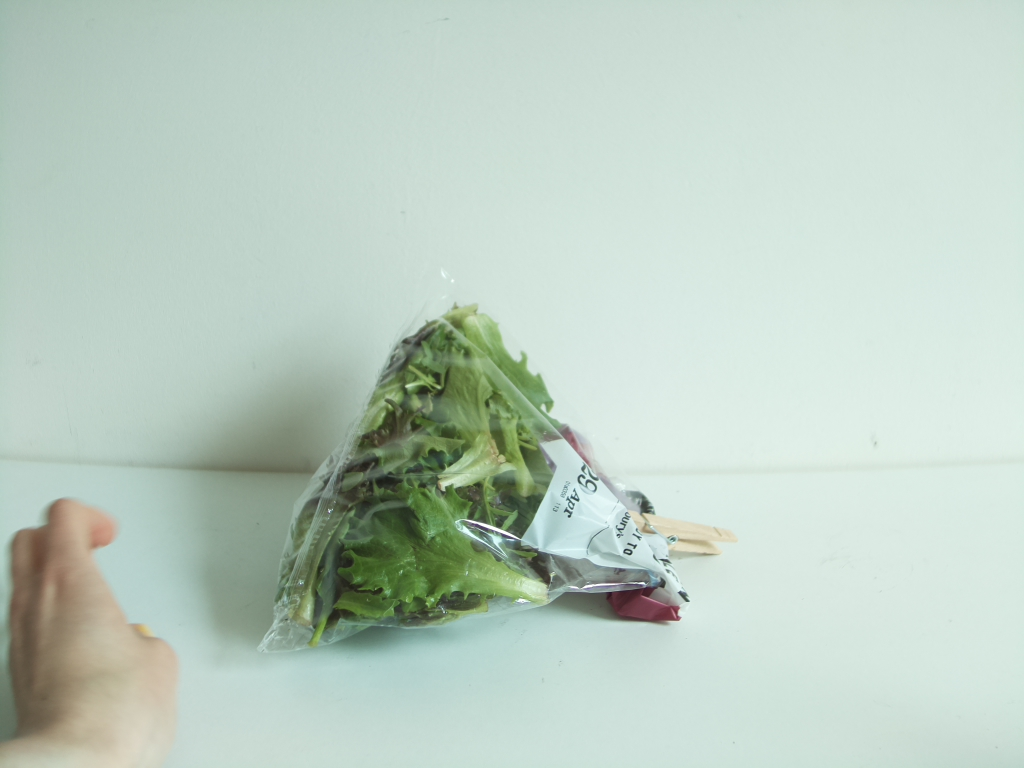salad: (270, 298, 659, 654)
